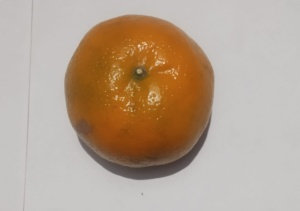BAD: (60, 12, 217, 171)
